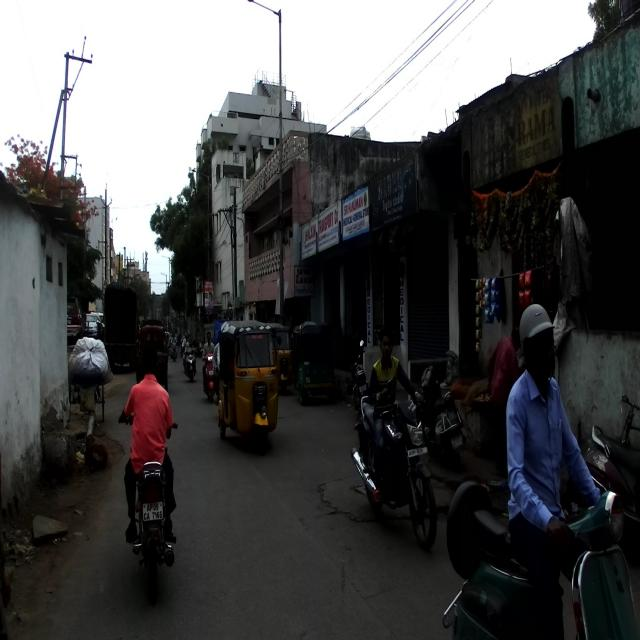autorickshaw: (218, 320, 282, 453)
motorcycle_Hero: (350, 377, 438, 550), (119, 404, 178, 587)
scooter: (442, 478, 636, 639), (412, 366, 466, 455)
